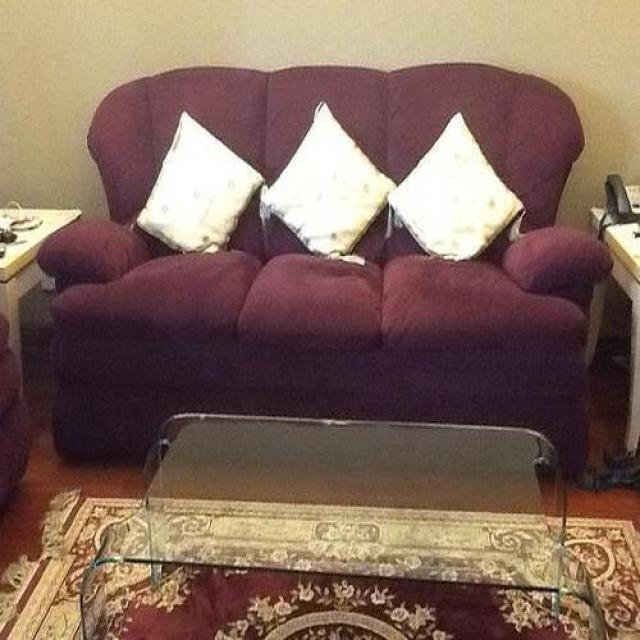sofa: (38, 59, 616, 480)
